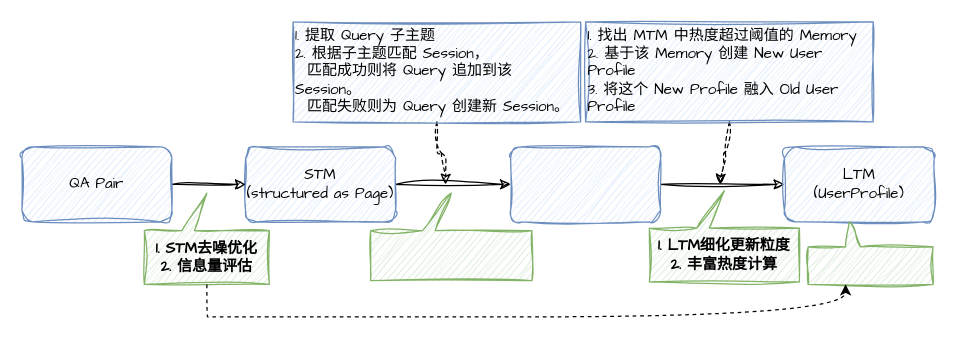
The diagram is 956 pixels wide and 339 high, and some of its shapes have lost their labels. Here are the shapes that lost their labels. From the top down, the centre of each, then its label:
At (585,184): "MTM (Session/Segment by topic)".
At (450,236): "1. MTM的动态抽象 2. MTM时间边界划分".
At (870,252): "LTM结构优化".
